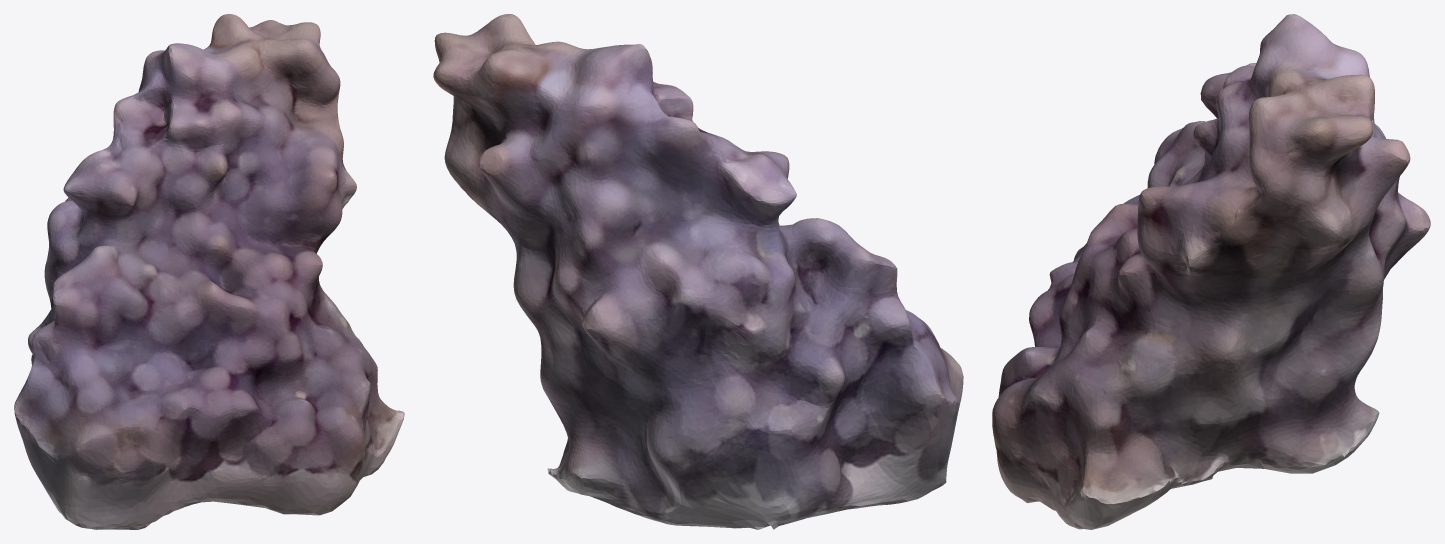
3 renders of one model, left to right at view 1: azimuth 30°, elevation 25°; view 2: azimuth 150°, elevation 25°; view 3: azimuth 270°, elevation 25°, orthographic. The views are drawn at different scales.
Size of the model in its own units: 0.0628 by 0.0644 by 0.0558.
Materials: 1 (1 with a texture image).
